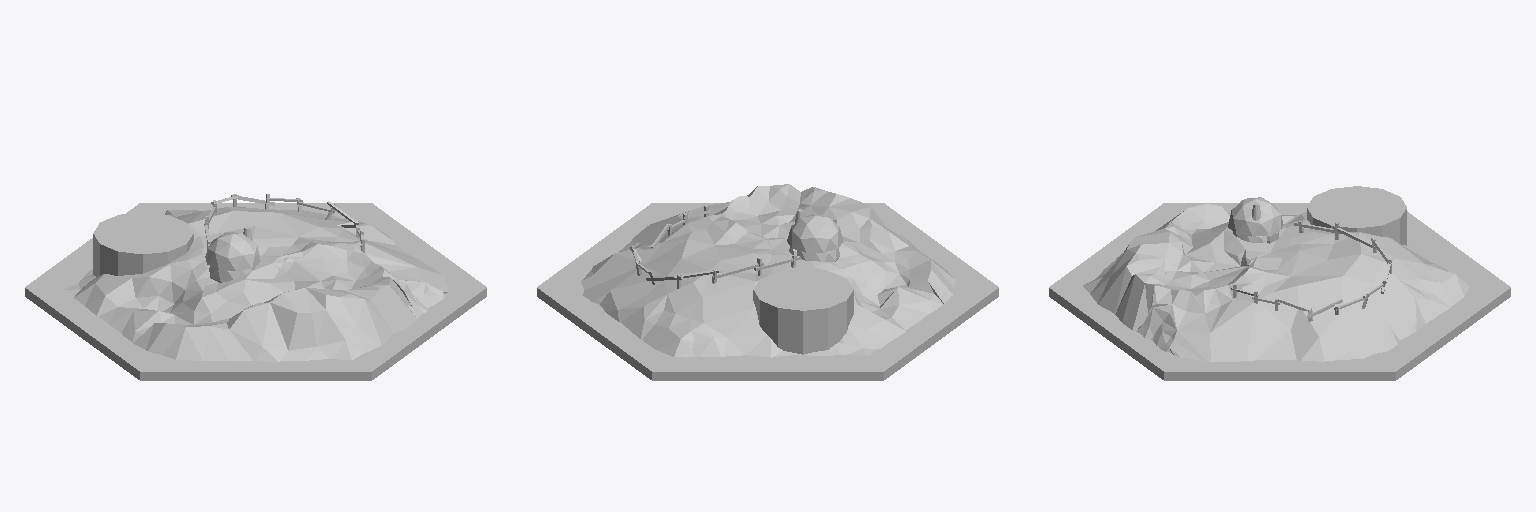
The model's file is Plains.obj.
3 renders of one model, left to right at view 1: azimuth 30°, elevation 25°; view 2: azimuth 150°, elevation 25°; view 3: azimuth 270°, elevation 25°, orthographic.
Visible parts, largest first — view 1: Stand.001_Cylinder.008; view 2: Stand.001_Cylinder.008; view 3: Stand.001_Cylinder.008.
Part boxes in pixels (x1,y1,x2,y2): Stand.001_Cylinder.008: (25,194,486,380); Stand.001_Cylinder.008: (537,184,998,380); Stand.001_Cylinder.008: (1049,186,1510,380).
Size of the model in its own units: 3.98 by 0.9209 by 4.6.